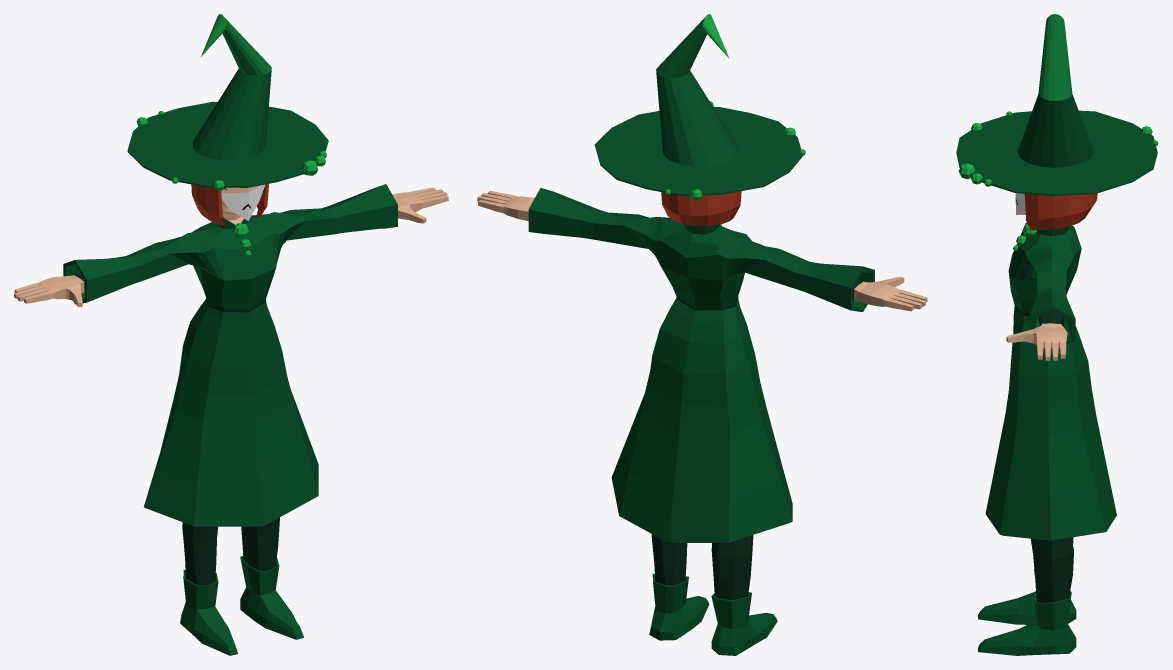
Rendered from Witch.fbx.
3 views of the same model, side by side, from view 1: azimuth 30°, elevation 25°; view 2: azimuth 150°, elevation 25°; view 3: azimuth 270°, elevation 25° (orthographic). The views are drawn at different scales.
Parts seen in each view (by area): view 1: Body, HairHat, Mouth; view 2: Body, HairHat; view 3: Body, HairHat.
Part boxes in pixels (x1,y1,x2,y2): Body: (14, 184, 448, 655); HairHat: (127, 14, 328, 225); Mouth: (221, 184, 265, 221); Body: (477, 188, 927, 655); HairHat: (594, 14, 805, 225); Body: (978, 209, 1116, 655); HairHat: (956, 14, 1158, 230).
Size of the model in its own units: 150 by 204 by 60.61.
2 materials, 2 textured.
